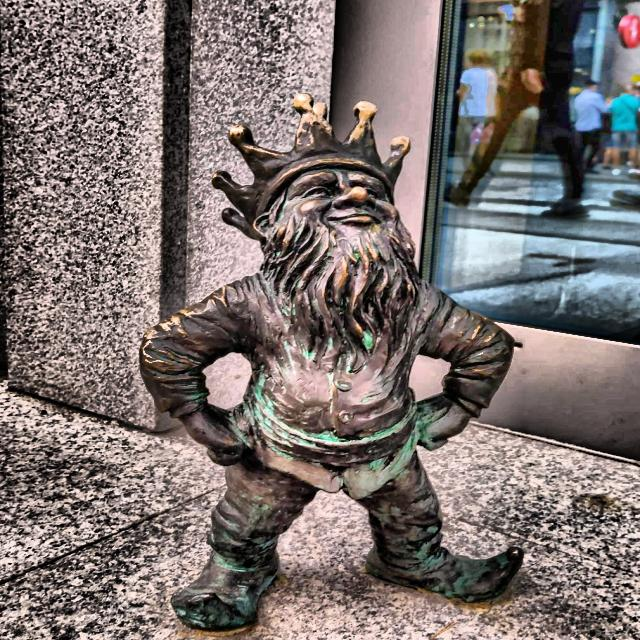Koronus: (139, 95, 525, 636)
